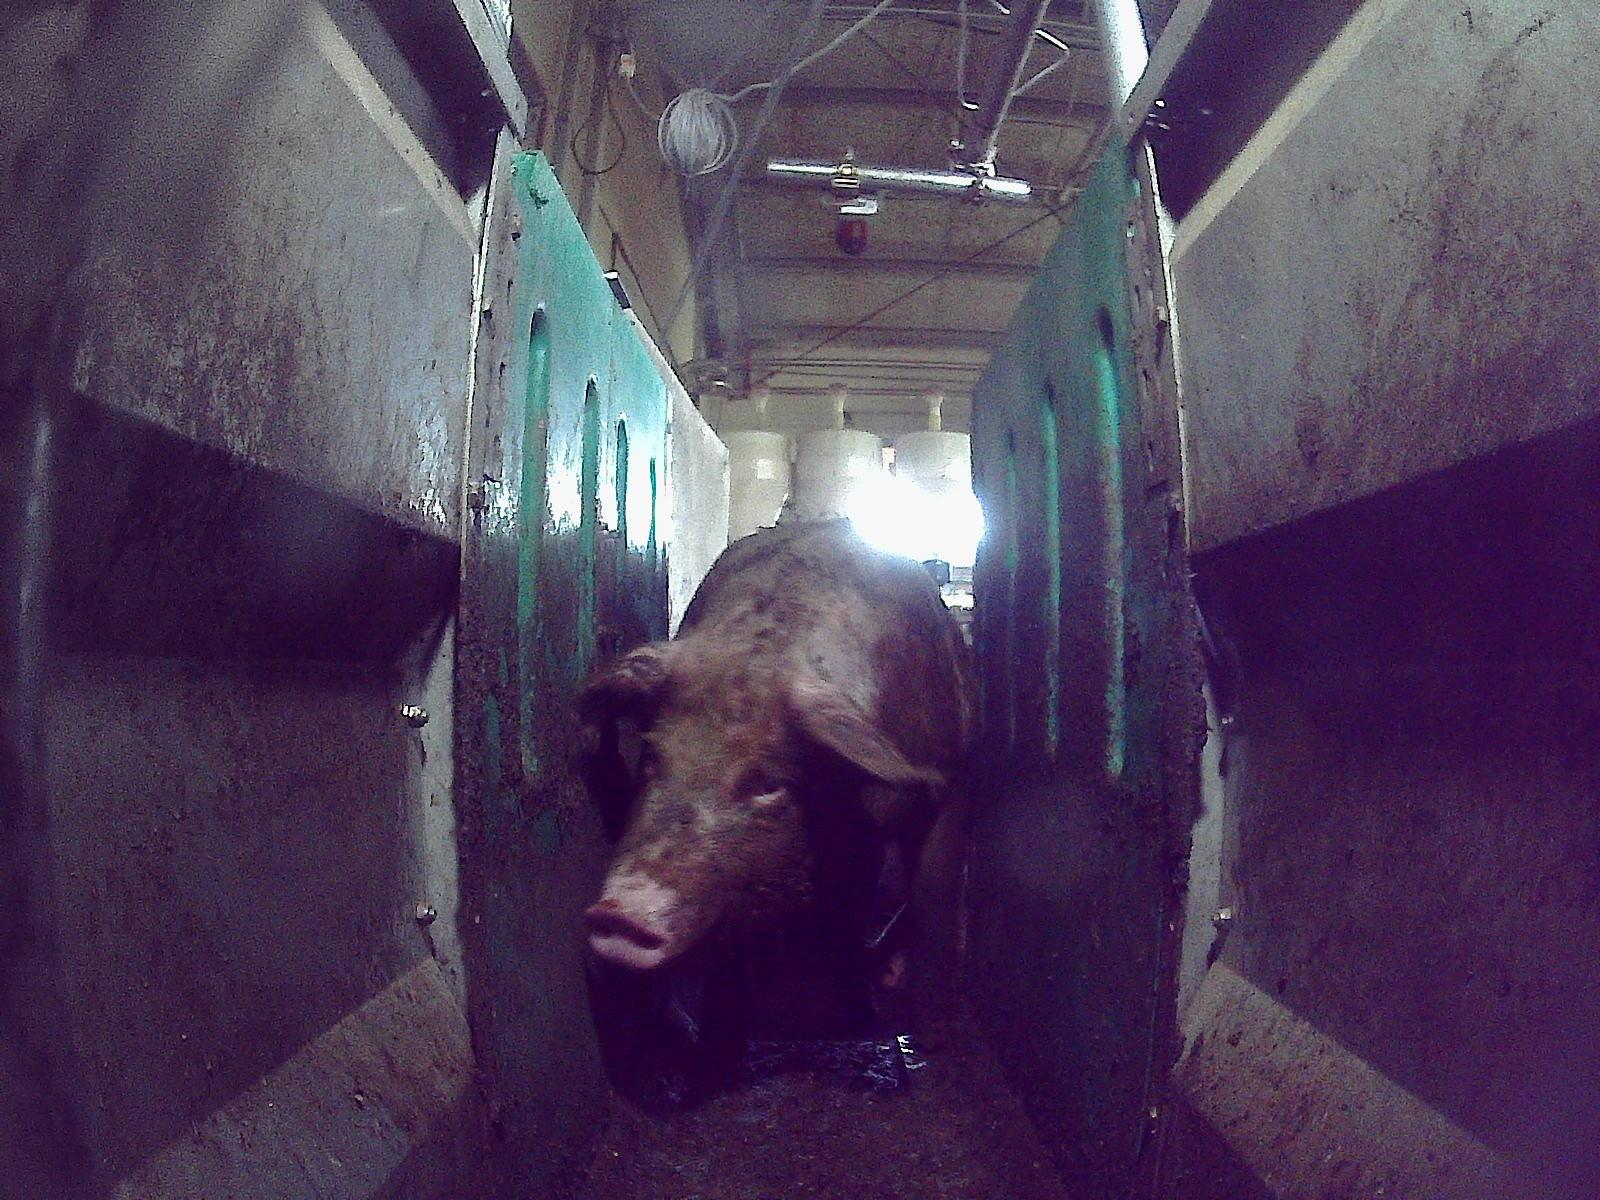Face: (574, 641, 834, 971)
